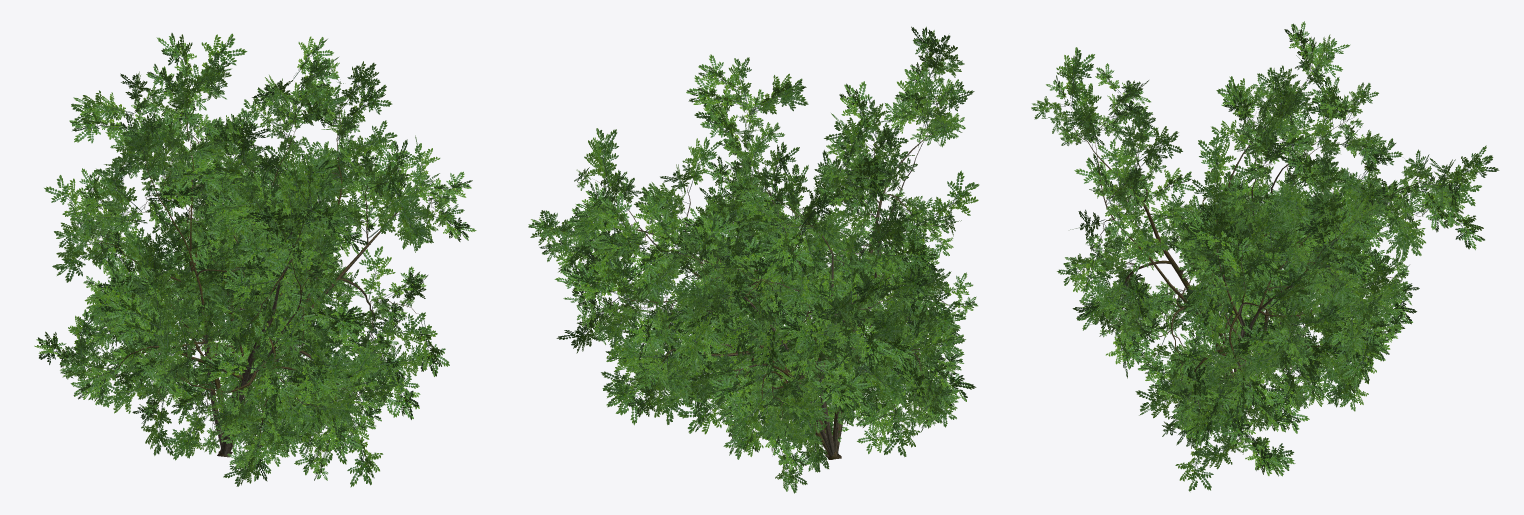
File: Arbusto3.glb
3 renders of one model, left to right at view 1: azimuth 30°, elevation 25°; view 2: azimuth 150°, elevation 25°; view 3: azimuth 270°, elevation 25°, orthographic. The views are drawn at different scales.
Size of the model in its own units: 30.96 by 30.07 by 32.17.
Materials: 2 (2 with a texture image).
